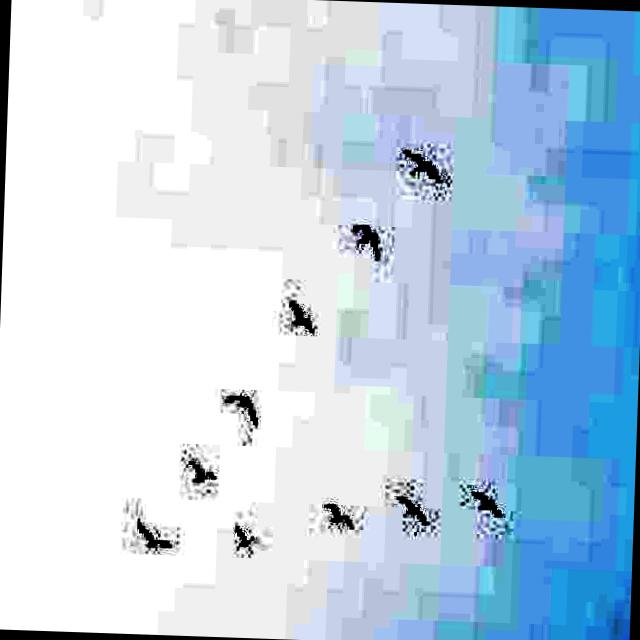bird: (351, 215, 388, 270), (400, 144, 448, 186), (133, 517, 174, 563), (225, 383, 264, 429), (230, 510, 263, 563), (397, 488, 434, 533), (468, 480, 504, 526), (284, 298, 320, 343), (324, 494, 360, 536), (186, 452, 214, 492)
